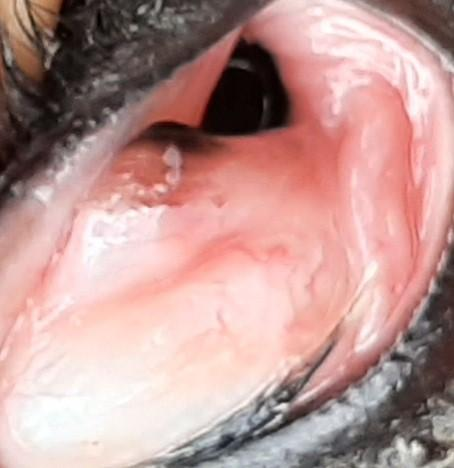eye_membrane: (3, 0, 452, 468)
